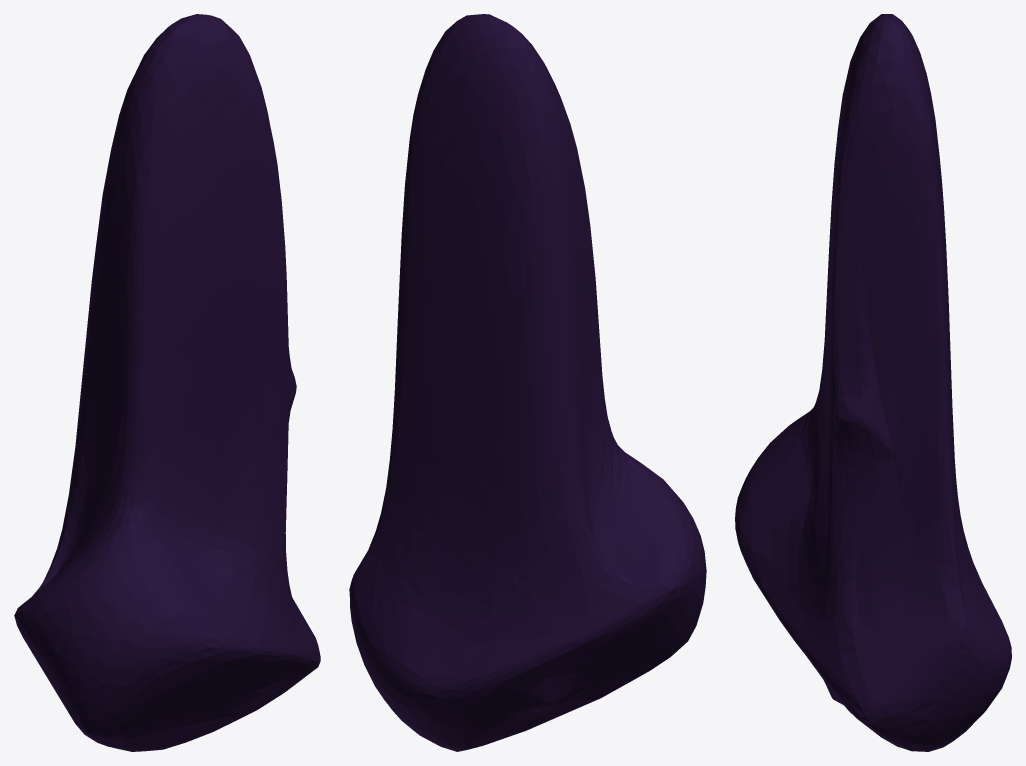
3 renders of one model, left to right at view 1: azimuth 30°, elevation 25°; view 2: azimuth 150°, elevation 25°; view 3: azimuth 270°, elevation 25°, orthographic. The views are drawn at different scales.
Parts seen in each view (by area): view 1: 900_Cube.3634; view 2: 900_Cube.3634; view 3: 900_Cube.3634.
Boxes of the visible parts, x1,y1,x2,y2 form: 900_Cube.3634: (14, 14, 320, 751); 900_Cube.3634: (349, 14, 706, 751); 900_Cube.3634: (735, 14, 1011, 751).
Size of the model in its own units: 5.31 by 12.39 by 4.29.
